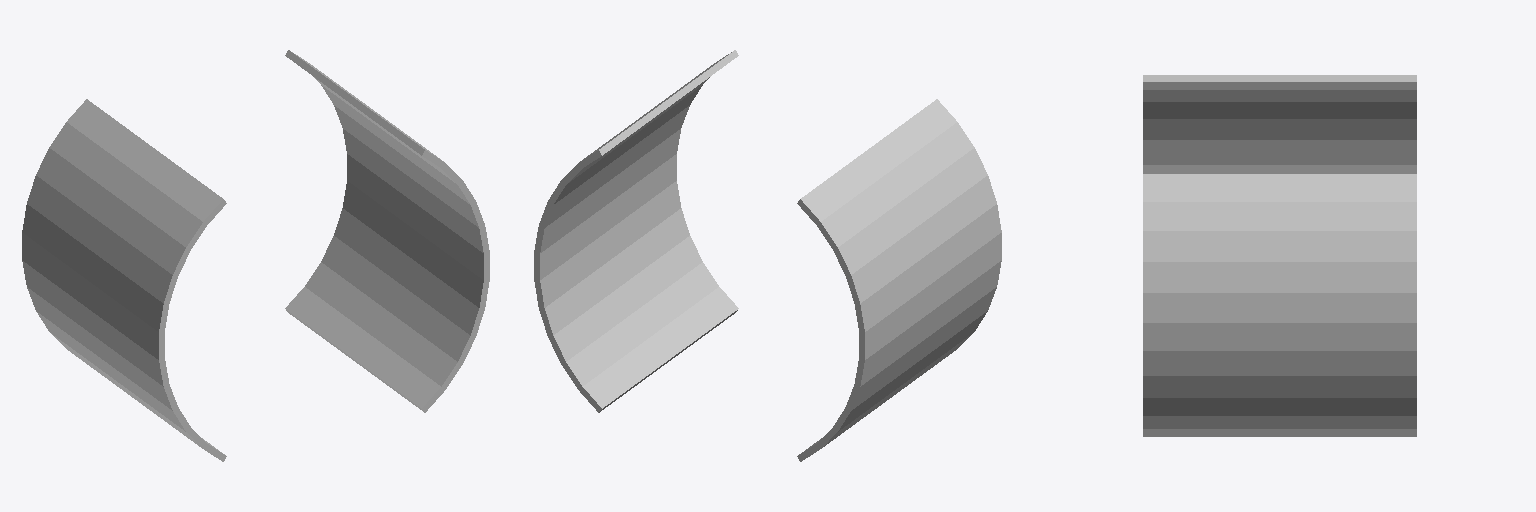
File: ROCKGYM8.obj
3 renders of one model, left to right at view 1: azimuth 30°, elevation 25°; view 2: azimuth 150°, elevation 25°; view 3: azimuth 270°, elevation 25°, orthographic.
Parts seen in each view (by area): view 1: ROCKGYM; view 2: ROCKGYM; view 3: ROCKGYM.
Part boxes in pixels (x1,y1,x2,y2): ROCKGYM: (22, 50, 489, 461); ROCKGYM: (534, 50, 1001, 461); ROCKGYM: (1143, 75, 1416, 436).
Bounding box in the file's own units: 438 × 333 × 314.